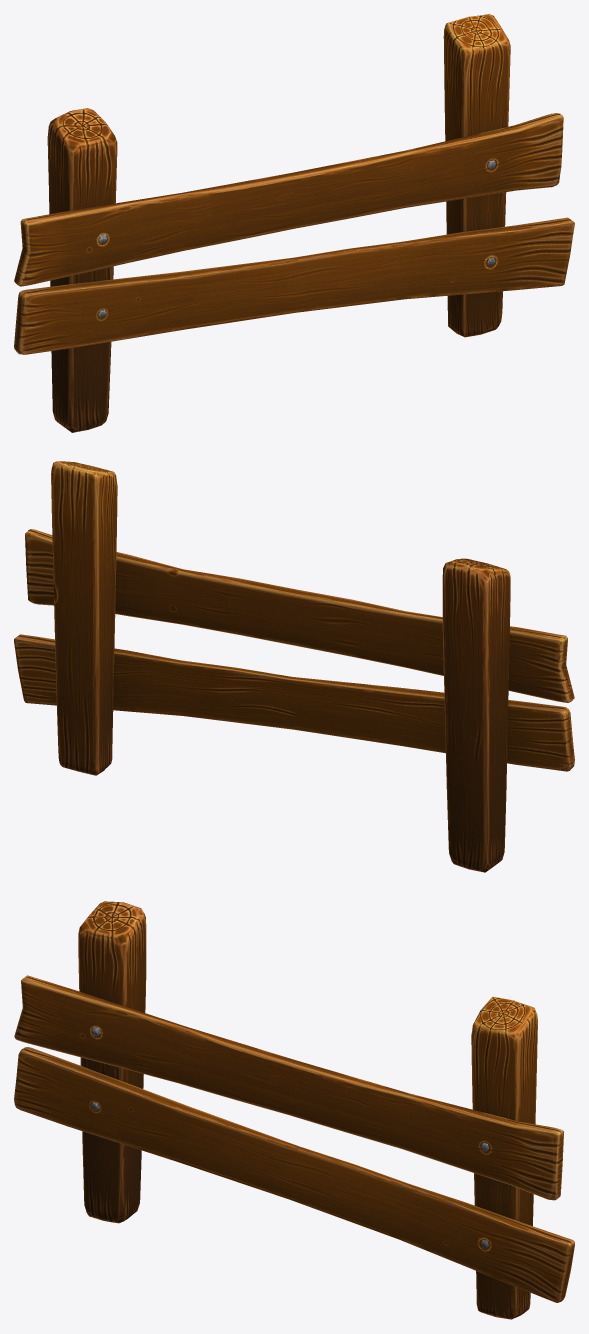
File: ENV0910002.FBX
The picture shows the model from 3 angles, top to bottom: view 1: azimuth 30°, elevation 25°; view 2: azimuth 150°, elevation 25°; view 3: azimuth 330°, elevation 25°; orthographic projection.
Visible parts, largest first — view 1: smENV0910002; view 2: smENV0910002; view 3: smENV0910002.
Part boxes in pixels (box(x1,y1,x2,y2)): smENV0910002: box(14, 14, 574, 432); smENV0910002: box(14, 461, 574, 872); smENV0910002: box(14, 901, 574, 1319).
Size of the model in its own units: 72.8 by 38.22 by 7.34.
Materials: 1 (1 with a texture image).
